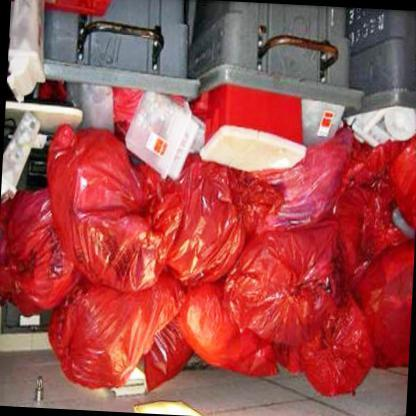Garbage: (235, 172, 415, 396), (70, 174, 234, 372), (0, 196, 155, 387), (60, 140, 138, 208)
